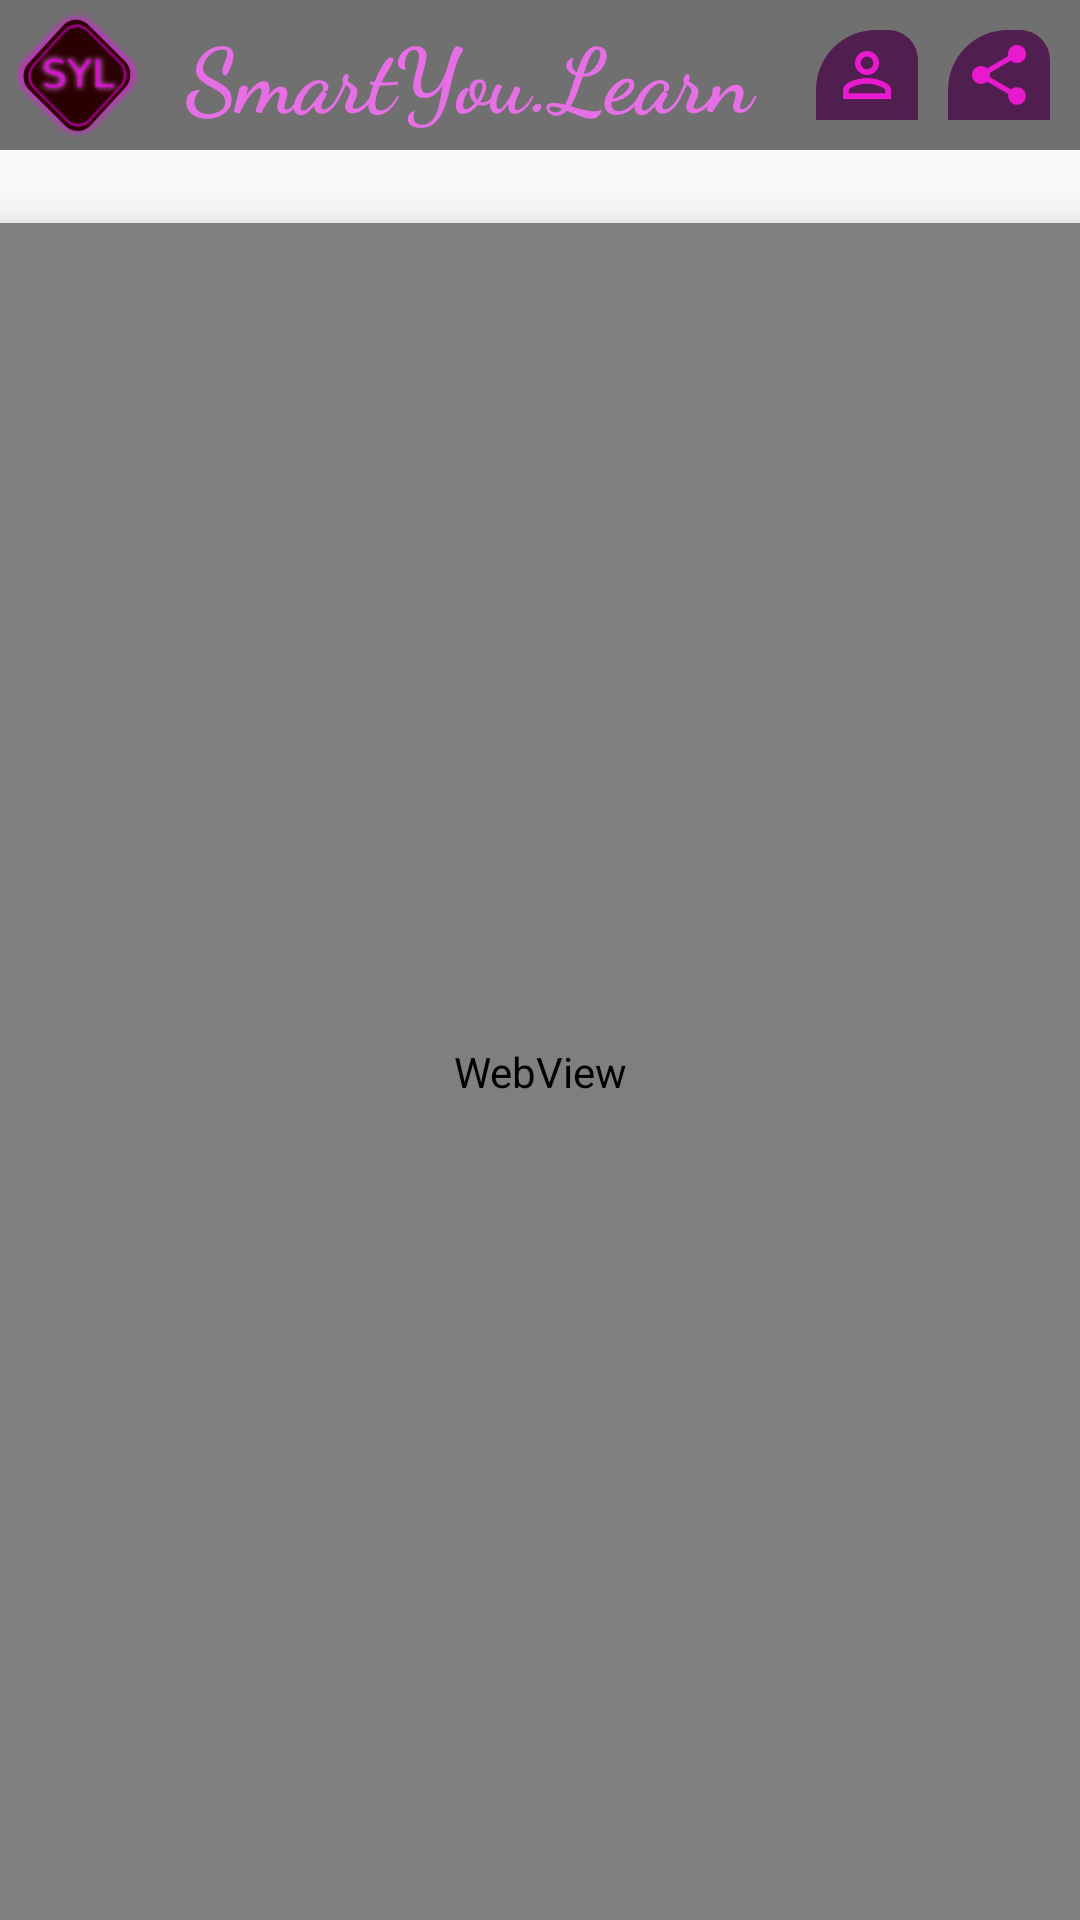

Named icons in this screenshot (1080 x 1920) and their bounding boxes, (x1=x1, y1=y1, x2=x2, y2=y2):
person: (x1=816, y1=30, x2=918, y2=120)
share: (x1=948, y1=30, x2=1050, y2=120)
